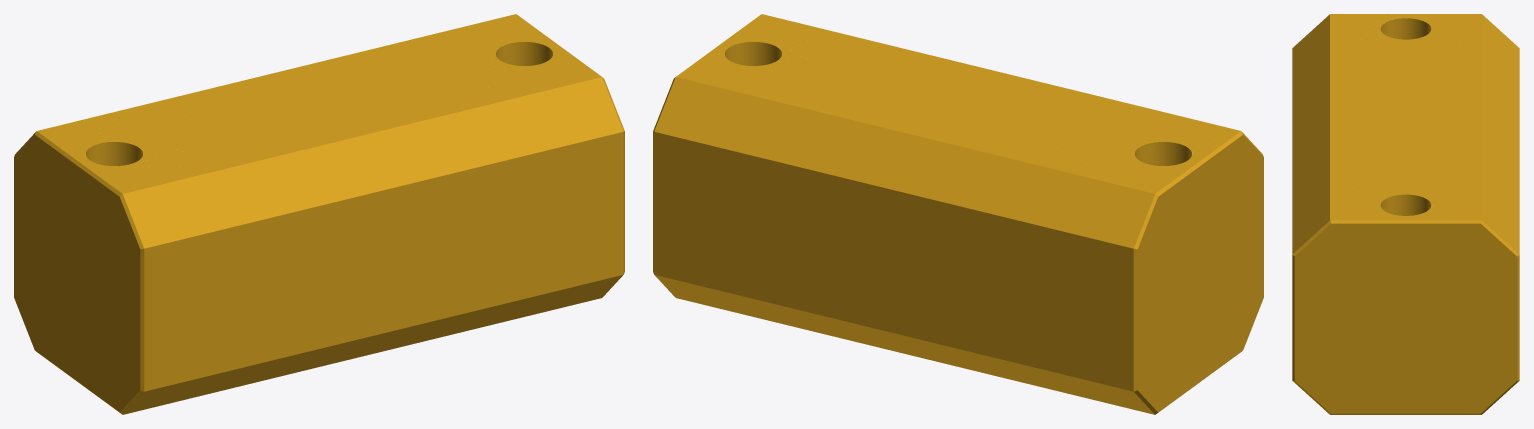
File: takoz-mtb-210-ii-side-buffer-02.glb
The picture shows the model from 3 angles, left to right: view 1: azimuth 30°, elevation 25°; view 2: azimuth 150°, elevation 25°; view 3: azimuth 270°, elevation 25°; orthographic projection. The views are drawn at different scales.
Parts seen in each view (by area): view 1: body; view 2: body; view 3: body.
Boxes of the visible parts, x1,y1,x2,y2 form: body: [14, 14, 624, 414]; body: [653, 14, 1263, 414]; body: [1292, 14, 1519, 414].
Bounding box in the file's own units: 0.195 × 0.085 × 0.09.
